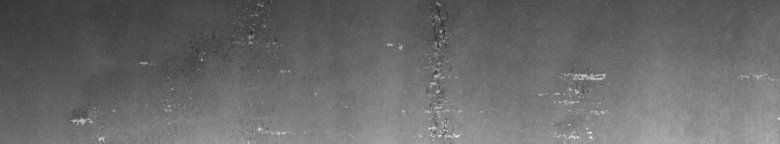hc: (384, 4, 463, 136)
